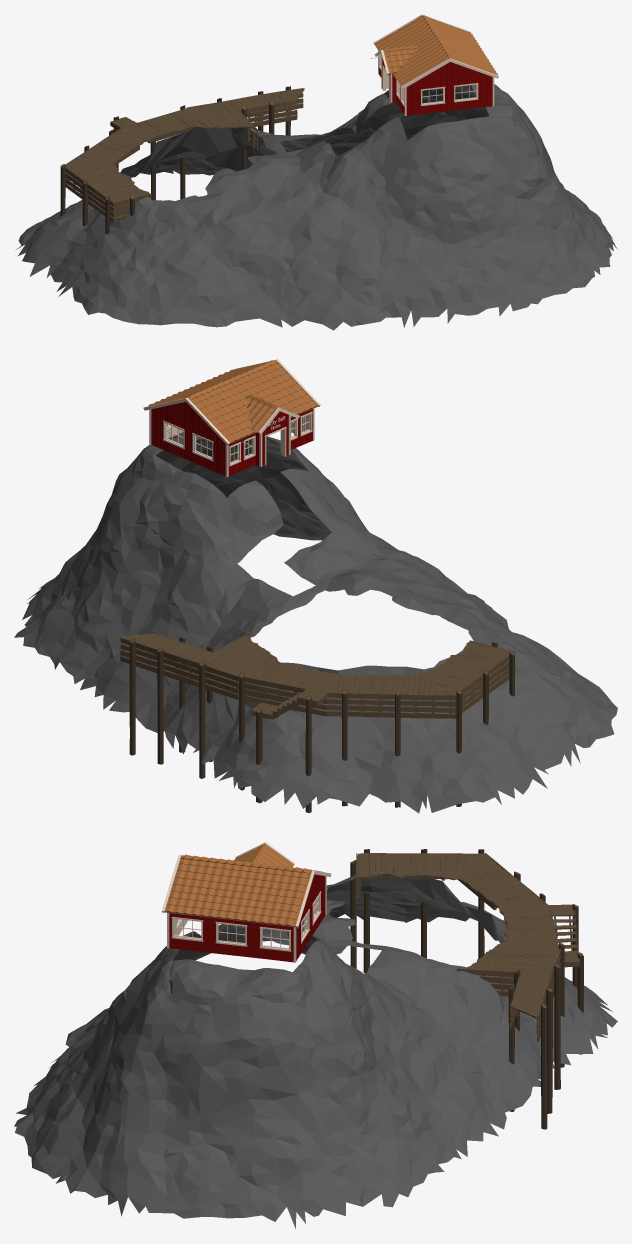
Rendered from Combined Mesh (root_ scene)_1.glb.
The picture shows the model from 3 angles, top to bottom: view 1: azimuth 30°, elevation 25°; view 2: azimuth 150°, elevation 25°; view 3: azimuth 270°, elevation 25°; orthographic projection. The views are drawn at different scales.
Visible parts, largest first — view 1: Combined Mesh (root_ scene)_1; view 2: Combined Mesh (root_ scene)_1; view 3: Combined Mesh (root_ scene)_1.
Part boxes in pixels (box(x1,y1,x2,y2)): Combined Mesh (root_ scene)_1: box(15, 14, 617, 330); Combined Mesh (root_ scene)_1: box(14, 359, 617, 813); Combined Mesh (root_ scene)_1: box(14, 842, 617, 1228).
Size of the model in its own units: 49.59 by 21.65 by 41.16.
Materials: 1 (1 with a texture image).
